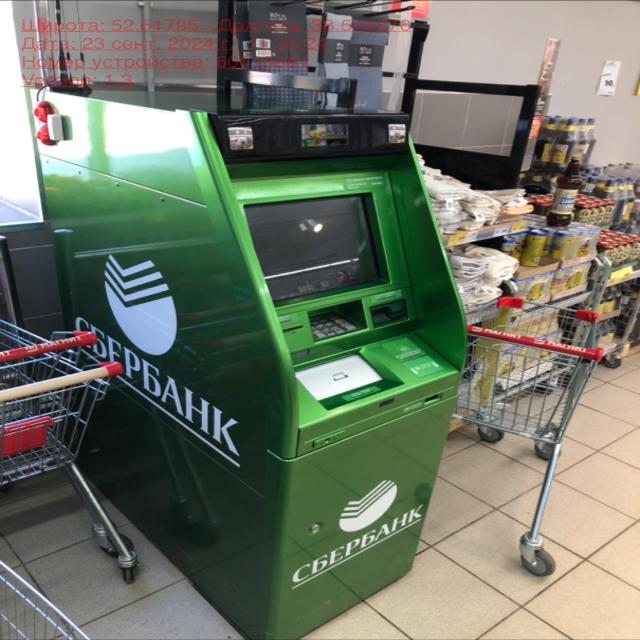bank: (19, 74, 451, 640)
